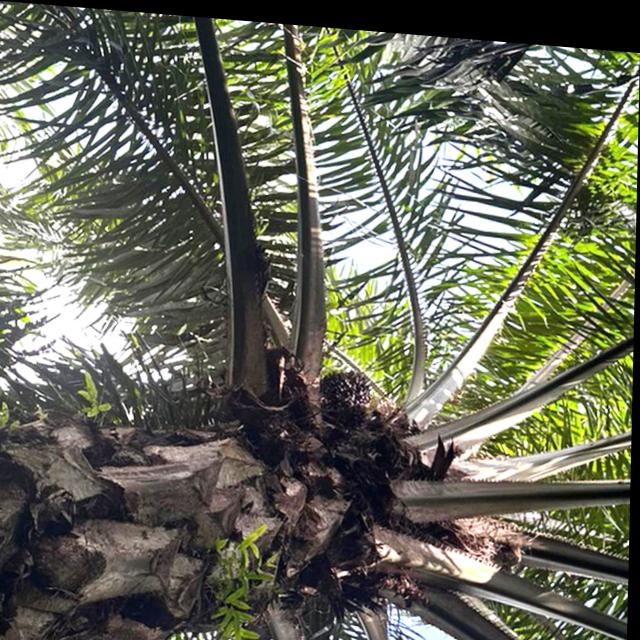almost: (317, 358, 378, 416)
